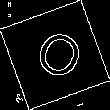O_SW: (25, 23, 85, 87)
